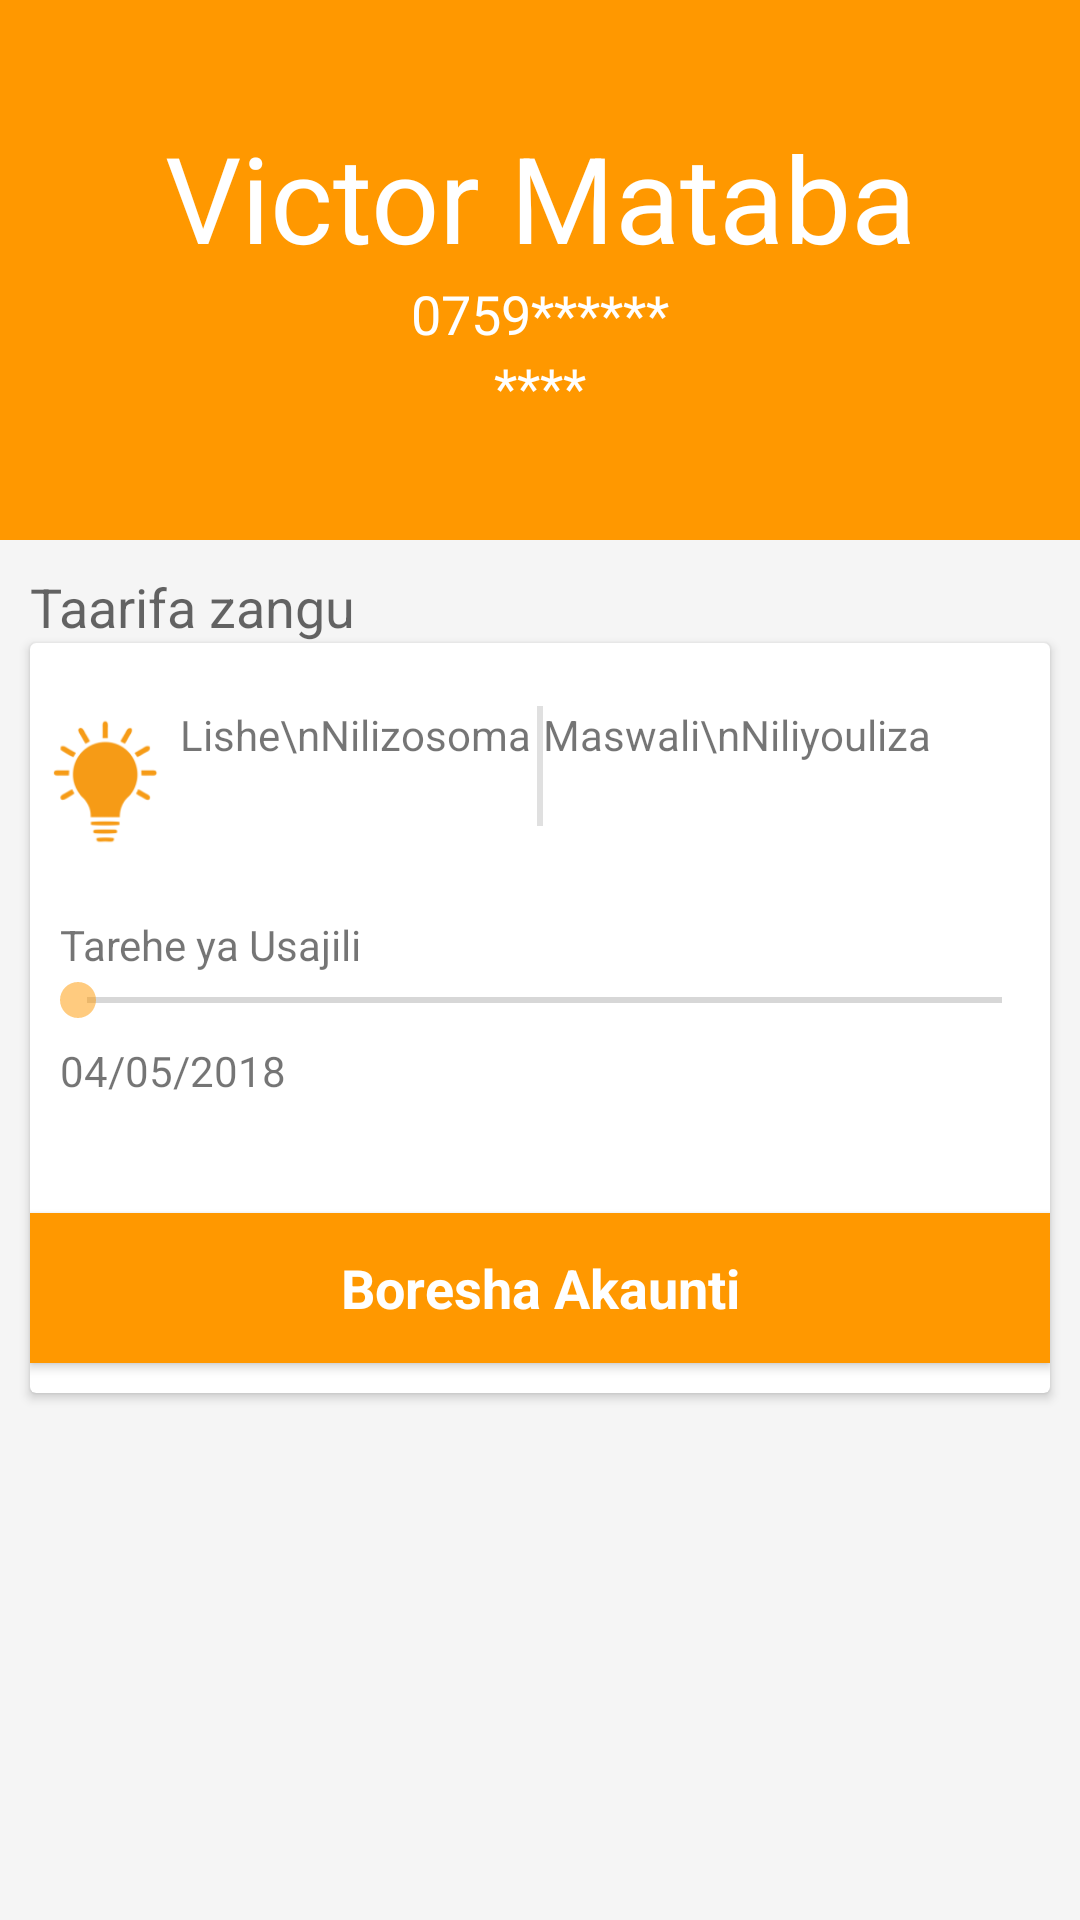

Where to tap for icons on this 1080×1920 app screen, as (x=x, y=y):
bulb on: (x=105, y=782)
